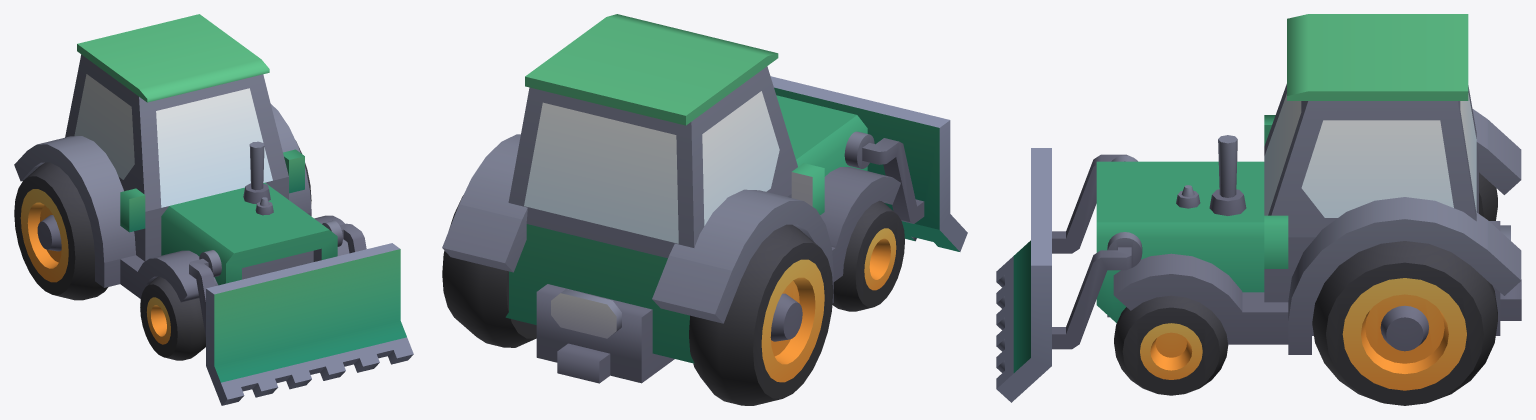
Rendered from tractor-shovel.fbx.
The picture shows the model from 3 angles, left to right: view 1: azimuth 30°, elevation 25°; view 2: azimuth 150°, elevation 25°; view 3: azimuth 270°, elevation 25°; orthographic projection. The views are drawn at different scales.
Parts seen in each view (by area): view 1: body, shovel, wheel-back-right, wheel-front-right; view 2: body, wheel-back-right, shovel, wheel-front-right, wheel-back-left; view 3: body, wheel-back-left, shovel, wheel-front-left, wheel-back-right.
Part boxes in pixels (box(x1,y1,x2,y2)): body: box(14, 14, 349, 302); shovel: box(189, 220, 413, 405); wheel-back-right: box(14, 162, 108, 300); wheel-front-right: box(140, 276, 205, 360); body: box(442, 14, 900, 383); wheel-back-right: box(689, 224, 833, 405); shovel: box(770, 76, 967, 251); wheel-front-right: box(832, 200, 904, 311); wheel-back-left: box(442, 195, 536, 347); body: box(1096, 14, 1521, 354); wheel-back-left: box(1312, 241, 1497, 405); shovel: box(996, 148, 1142, 402); wheel-front-left: box(1114, 295, 1228, 395); wheel-back-right: box(1479, 172, 1497, 220).
Size of the model in its own units: 166 by 151 by 247.
Materials: 1 (1 with a texture image).
